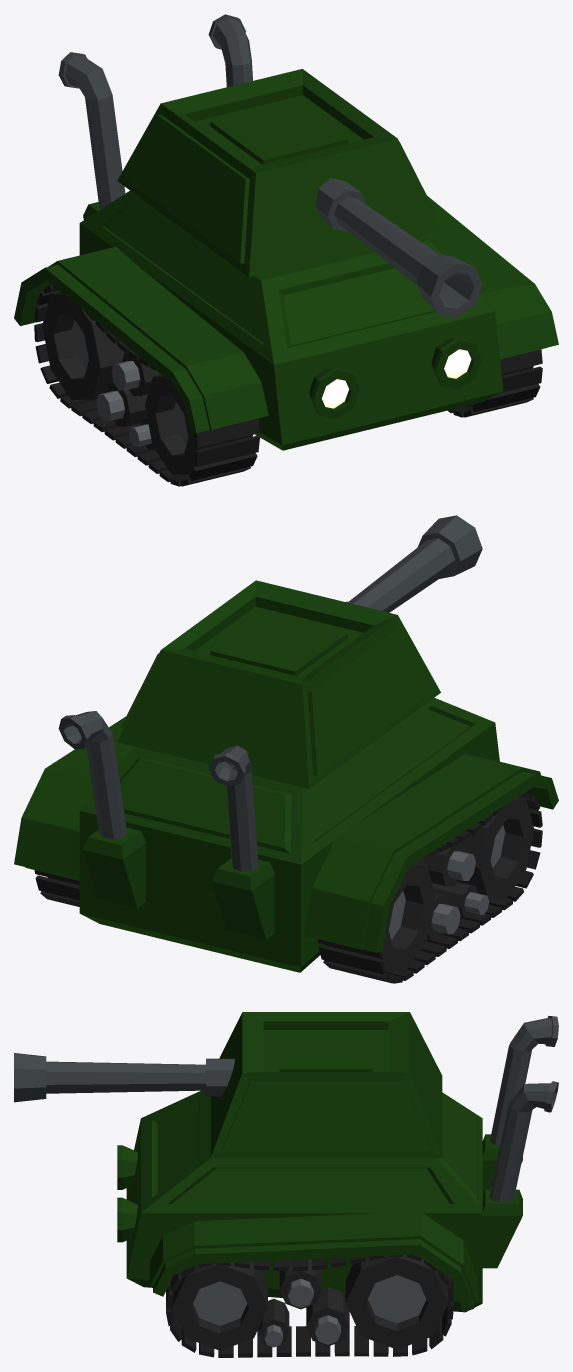
File: Tanque #1.fbx
The picture shows the model from 3 angles, top to bottom: view 1: azimuth 30°, elevation 25°; view 2: azimuth 150°, elevation 25°; view 3: azimuth 270°, elevation 25°; orthographic projection. The views are drawn at different scales.
Visible parts, largest first — view 1: body, head, mudflaps, thread, cannon, exhausts, rear wheel, headlights, front wheel, mid rear wheel, mid top wheel; view 2: head, body, mudflaps, exhausts, thread, cannon, front wheel, rear wheel, mid top wheel, mid front wheel, mid rear wheel; view 3: body, head, mudflaps, exhausts, rear wheel, cannon, front wheel, thread, mid rear wheel, headlights, mid top wheel, mid front wheel.
Boxes of the visible parts, bbox=[...] form: body: bbox=[79, 190, 503, 450]; head: bbox=[117, 69, 440, 277]; mudflaps: bbox=[14, 196, 558, 433]; thread: bbox=[34, 284, 542, 486]; cannon: bbox=[315, 178, 482, 317]; exhausts: bbox=[58, 14, 252, 219]; rear wheel: bbox=[42, 292, 124, 399]; headlights: bbox=[309, 338, 482, 419]; front wheel: bbox=[145, 366, 533, 474]; mid rear wheel: bbox=[96, 381, 147, 426]; mid top wheel: bbox=[111, 352, 160, 395]; head: bbox=[117, 580, 440, 788]; body: bbox=[79, 697, 499, 972]; mudflaps: bbox=[14, 716, 558, 952]; exhausts: bbox=[58, 711, 274, 939]; thread: bbox=[34, 790, 542, 983]; cannon: bbox=[346, 515, 482, 612]; front wheel: bbox=[458, 797, 534, 897]; rear wheel: bbox=[47, 862, 435, 970]; mid top wheel: bbox=[416, 842, 475, 886]; mid front wheel: bbox=[432, 881, 489, 917]; mid rear wheel: bbox=[427, 892, 460, 939]; body: bbox=[126, 1090, 482, 1312]; head: bbox=[210, 1012, 442, 1158]; mudflaps: bbox=[150, 1211, 477, 1311]; exhausts: bbox=[482, 1016, 558, 1268]; rear wheel: bbox=[345, 1255, 448, 1349]; cannon: bbox=[14, 1053, 234, 1102]; front wheel: bbox=[172, 1261, 267, 1350]; thread: bbox=[166, 1254, 453, 1357]; mid rear wheel: bbox=[306, 1287, 349, 1346]; headlights: bbox=[117, 1145, 137, 1242]; mid top wheel: bbox=[279, 1259, 321, 1309]; mid front wheel: bbox=[258, 1298, 289, 1347].
Bounding box in the file's own units: 328 × 237 × 485.
